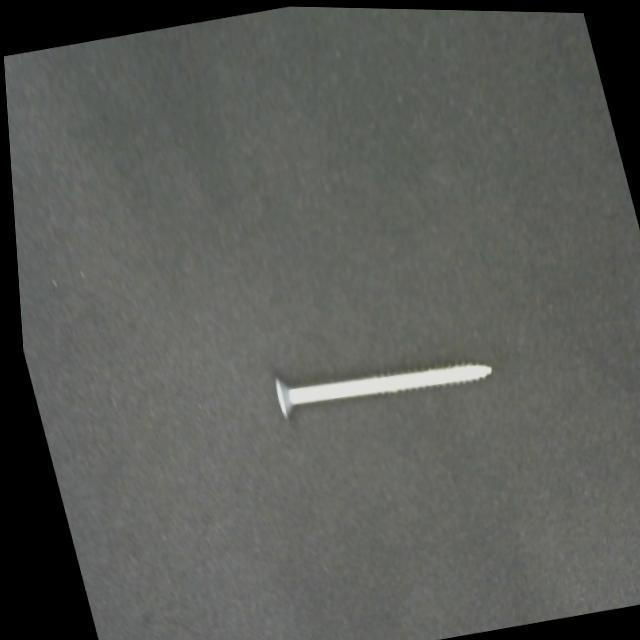WoodScrew: (263, 334, 494, 425)
